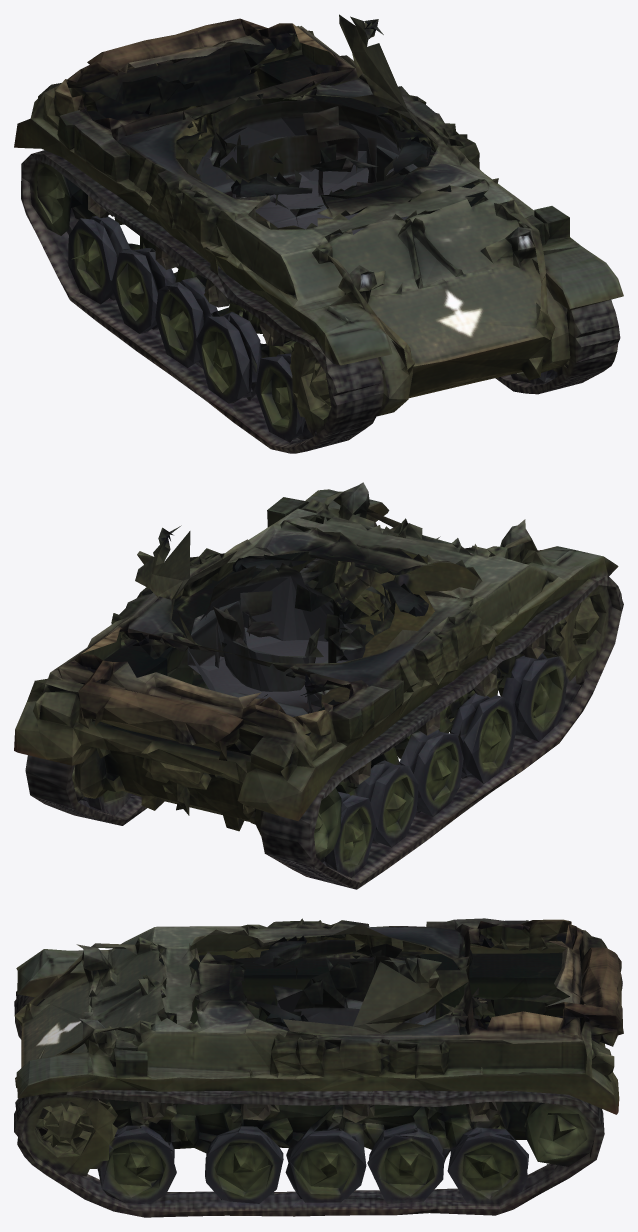
Rendered from hellcat_hull.glb.
3 views of the same model, one above another, from view 1: azimuth 30°, elevation 25°; view 2: azimuth 150°, elevation 25°; view 3: azimuth 270°, elevation 25° (orthographic). The views are drawn at different scales.
Parts seen in each view (by area): view 1: hellcat_00001_.glb; view 2: hellcat_00001_.glb; view 3: hellcat_00001_.glb.
Part boxes in pixels (bbox=[...]): hellcat_00001_.glb: bbox=[14, 14, 623, 453]; hellcat_00001_.glb: bbox=[14, 482, 623, 889]; hellcat_00001_.glb: bbox=[14, 918, 623, 1217].
Size of the model in its own units: 2.84 by 2.44 by 5.5.
Materials: 1 (1 with a texture image).
